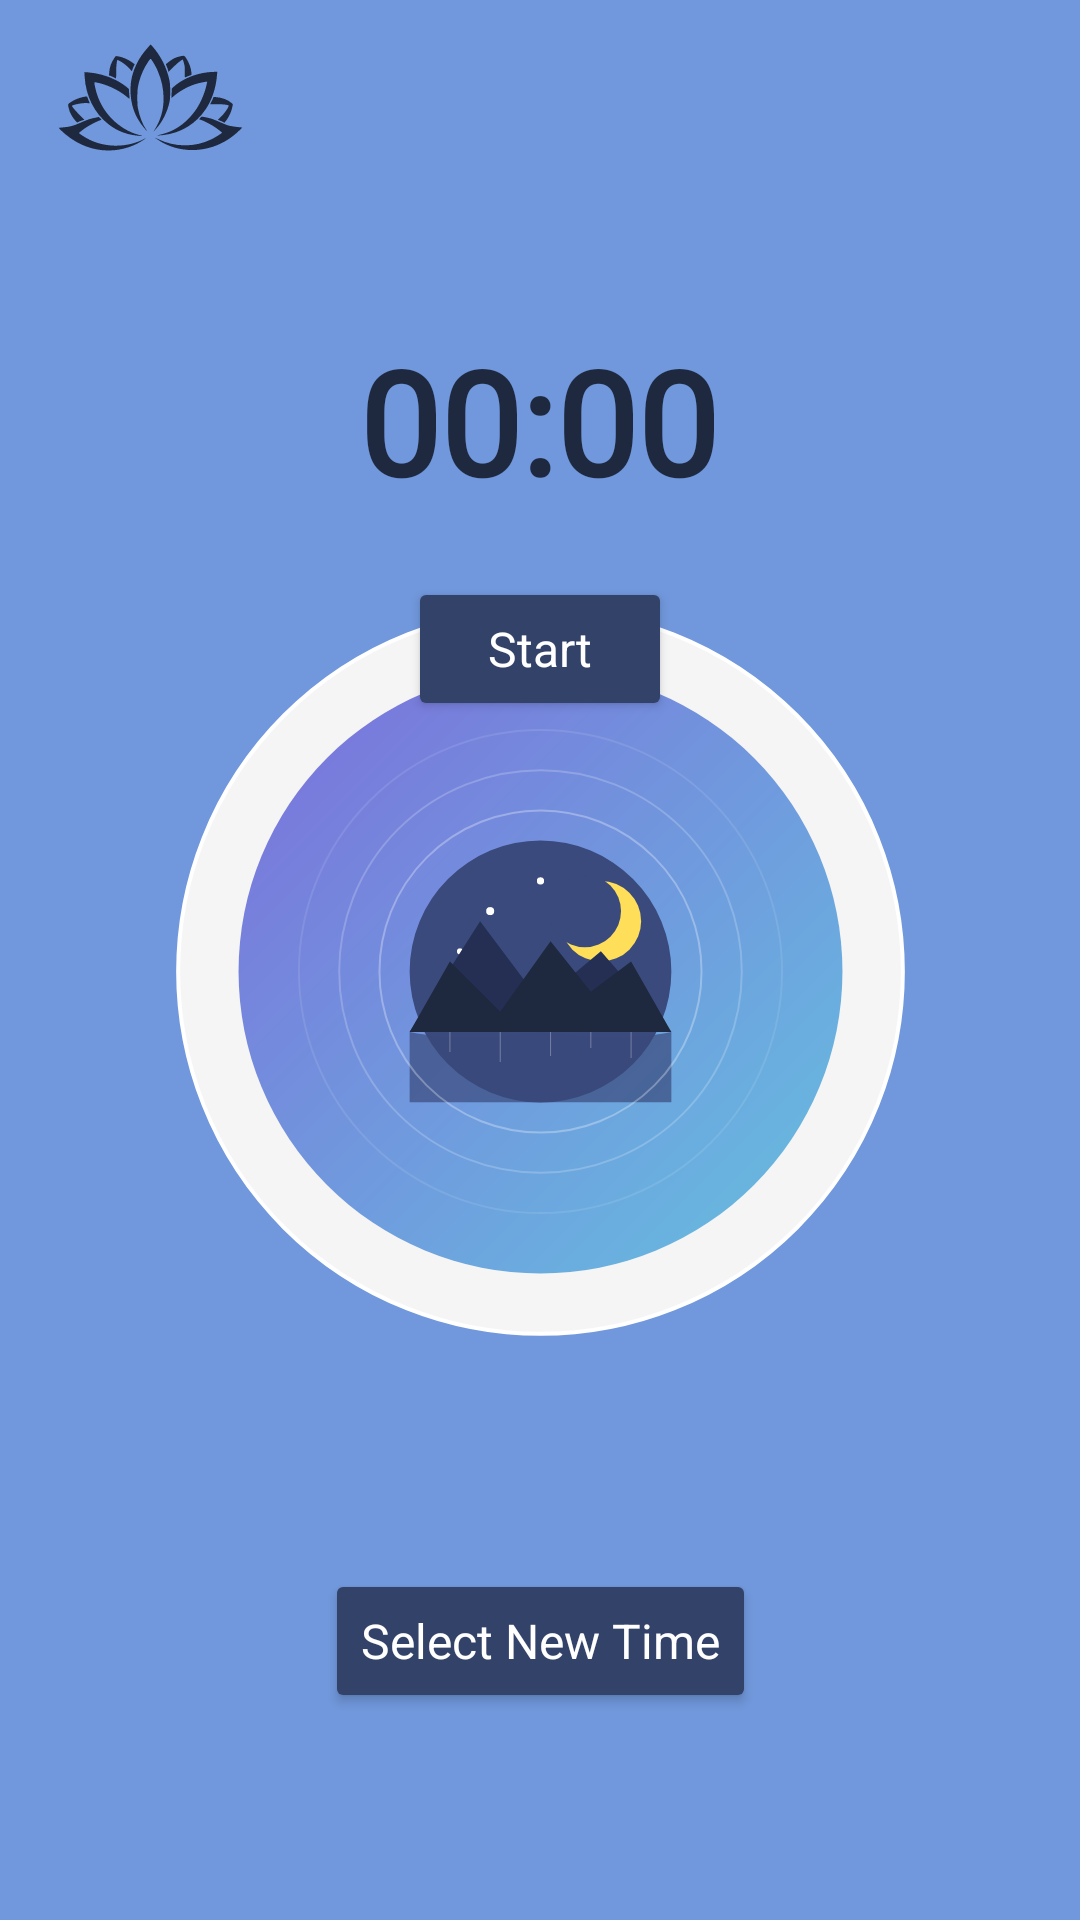

Where icons sit on this 1080w x 1920h app screen, as (x1,y1,x2,y2):
lotus simple: (59,44,242,151)
